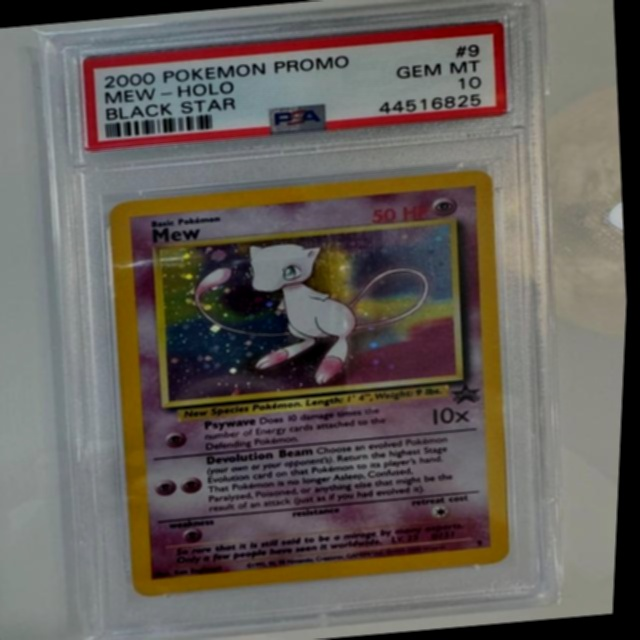card: (109, 168, 514, 595)
